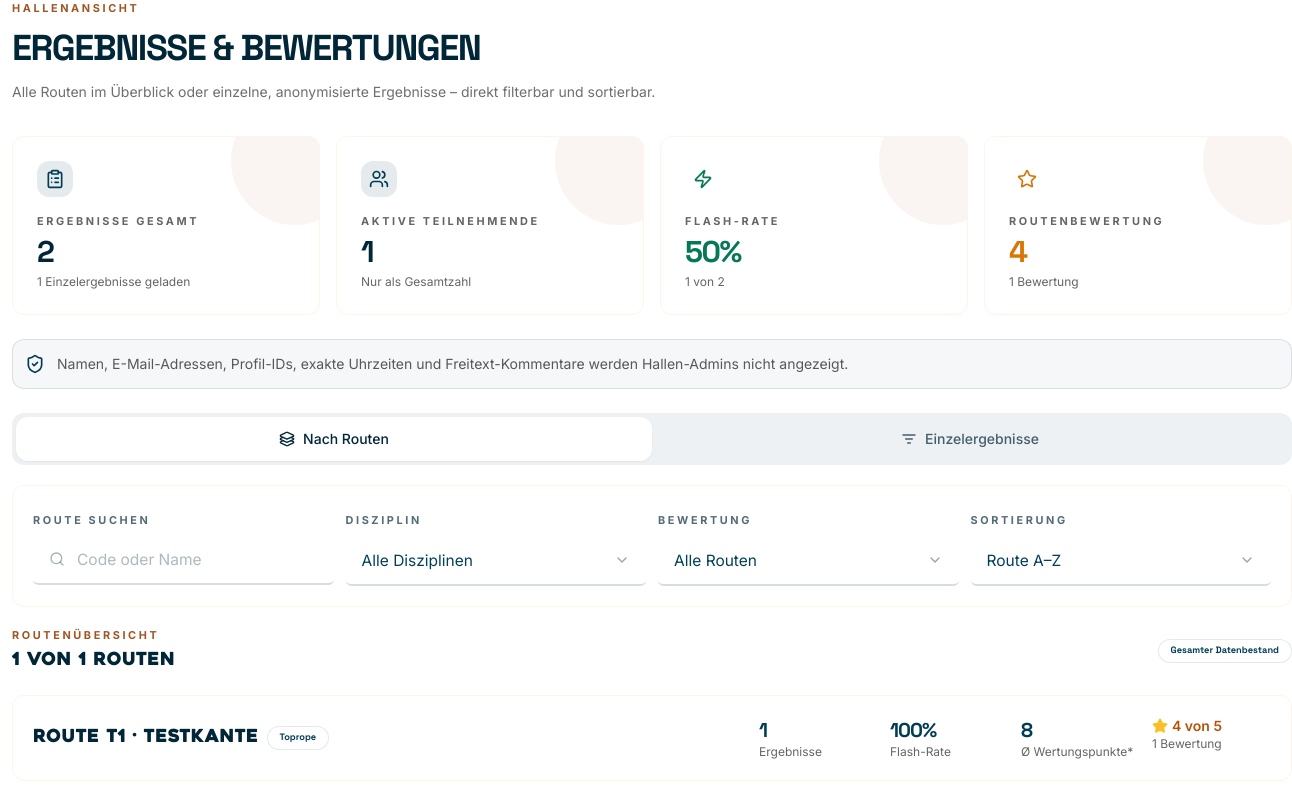
GymResults › loads the next anonymous result page with the assigned hall and cursor
The image size is (1292, 800).
Click the tab "Einzelergebnisse": [970, 439] box top-left (652, 417), bottom-right (1288, 461)
(page scrolled)
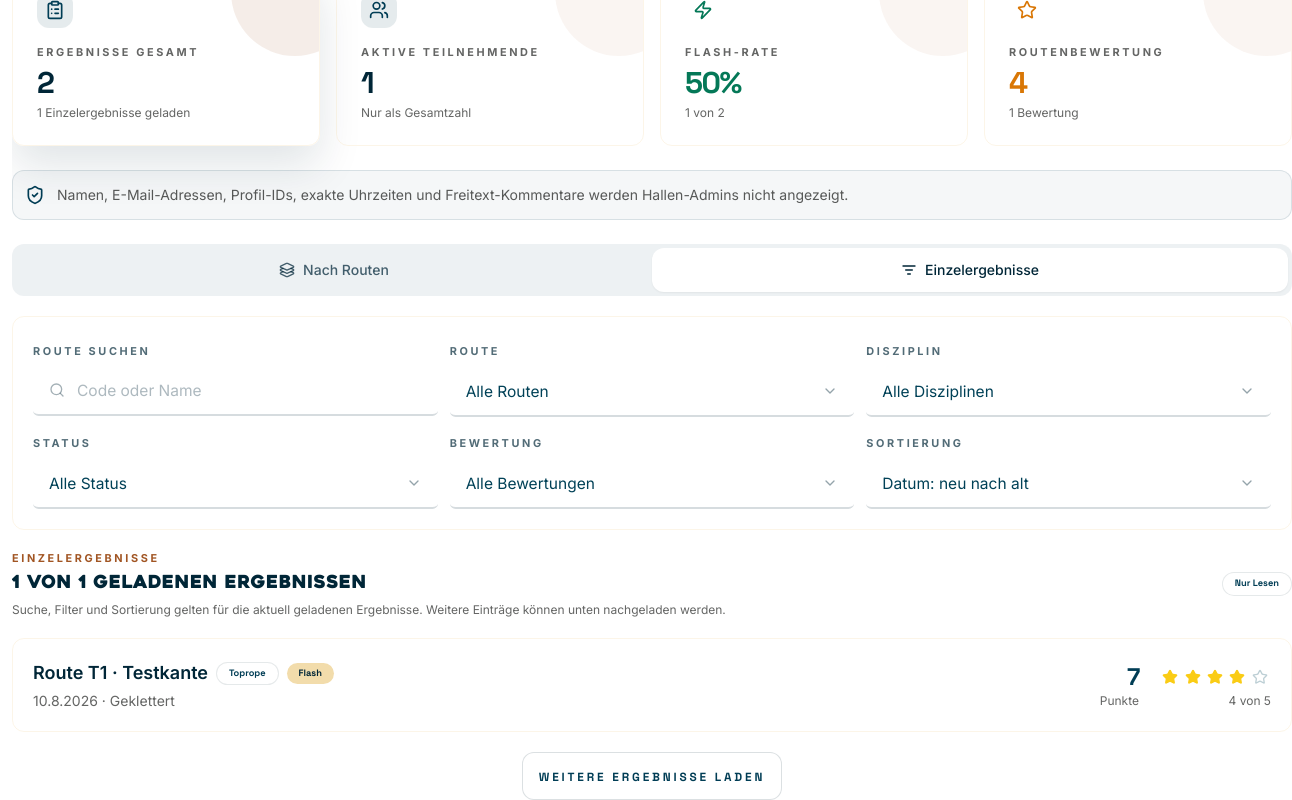
Click the button "Weitere Ergebnisse laden": [652, 776] box top-left (522, 752), bottom-right (782, 799)
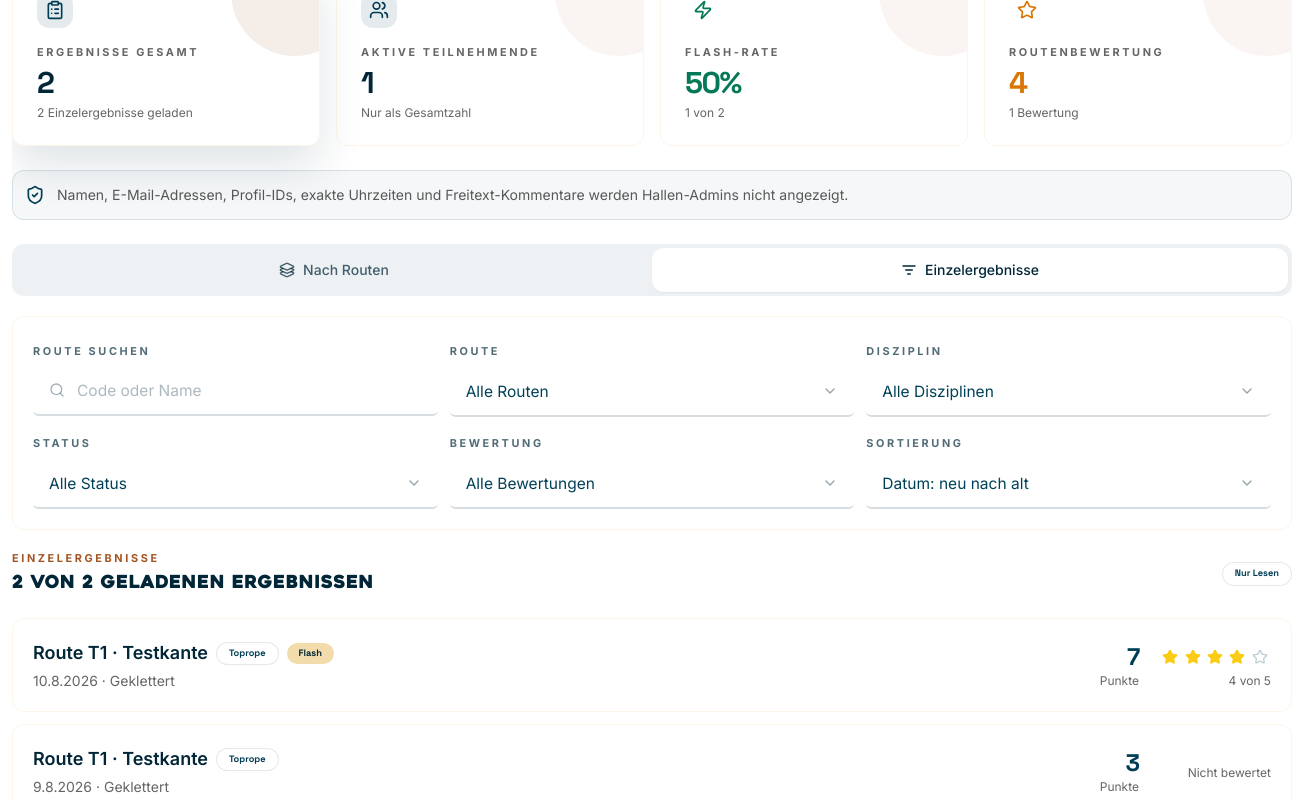
Now the text "Nicht bewertet" is shown, box top-left (1188, 766), bottom-right (1271, 780)
Now the heading "2 von 2 geladenen Ergebnissen" is shown, box top-left (12, 570), bottom-right (374, 598)
